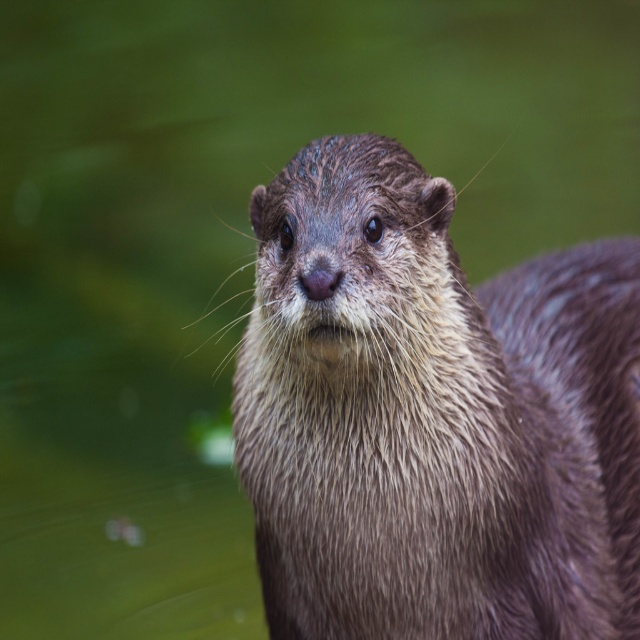Otter: (180, 130, 640, 639)
